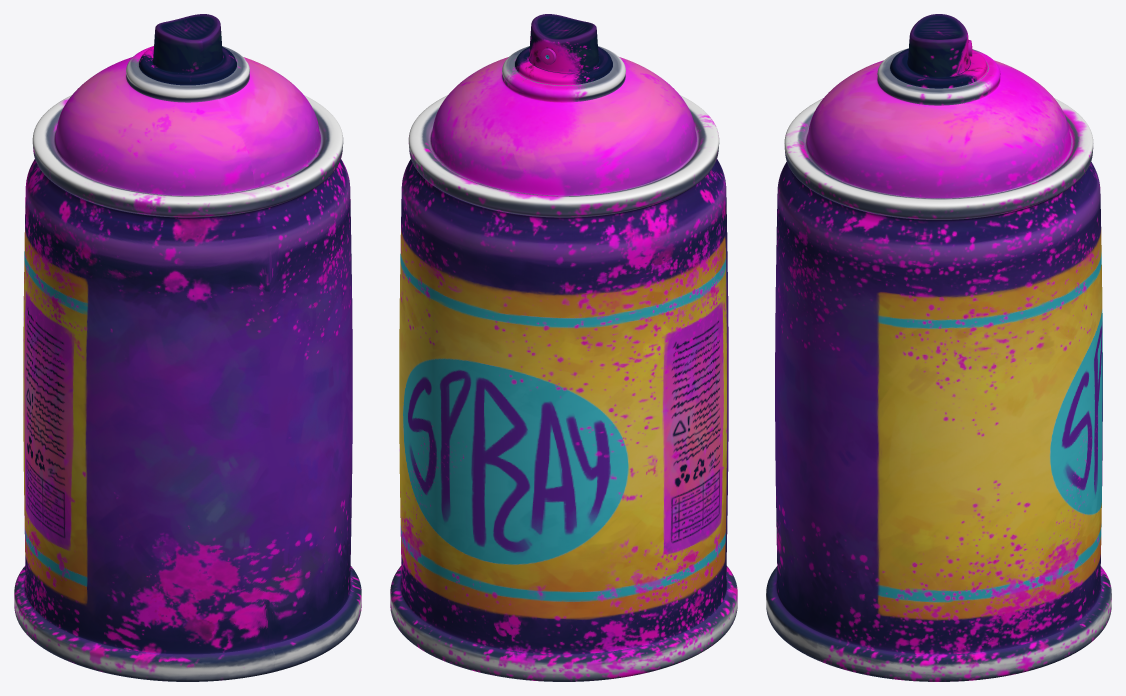
File: spraycan.gltf
The picture shows the model from 3 angles, left to right: view 1: azimuth 30°, elevation 25°; view 2: azimuth 150°, elevation 25°; view 3: azimuth 270°, elevation 25°; orthographic projection.
Parts seen in each view (by area): view 1: Cylinder; view 2: Cylinder; view 3: Cylinder.
Part boxes in pixels (box(x1,y1,x2,y2)): Cylinder: box(14, 14, 361, 681); Cylinder: box(390, 14, 737, 681); Cylinder: box(766, 14, 1111, 681).
Size of the model in its own units: 2.09 by 3.9 by 2.09.
Materials: 2 (2 with a texture image).
